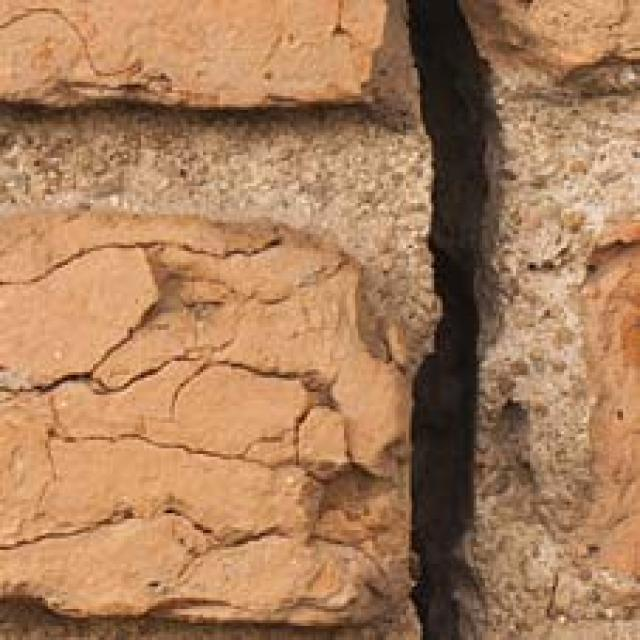Crack: (310, 0, 599, 640)
